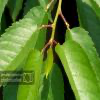Cherry leaf: (54, 35, 99, 99), (0, 23, 38, 67)
